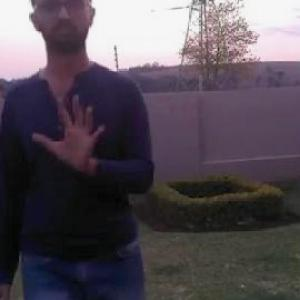follow_hand: (31, 91, 110, 169)
